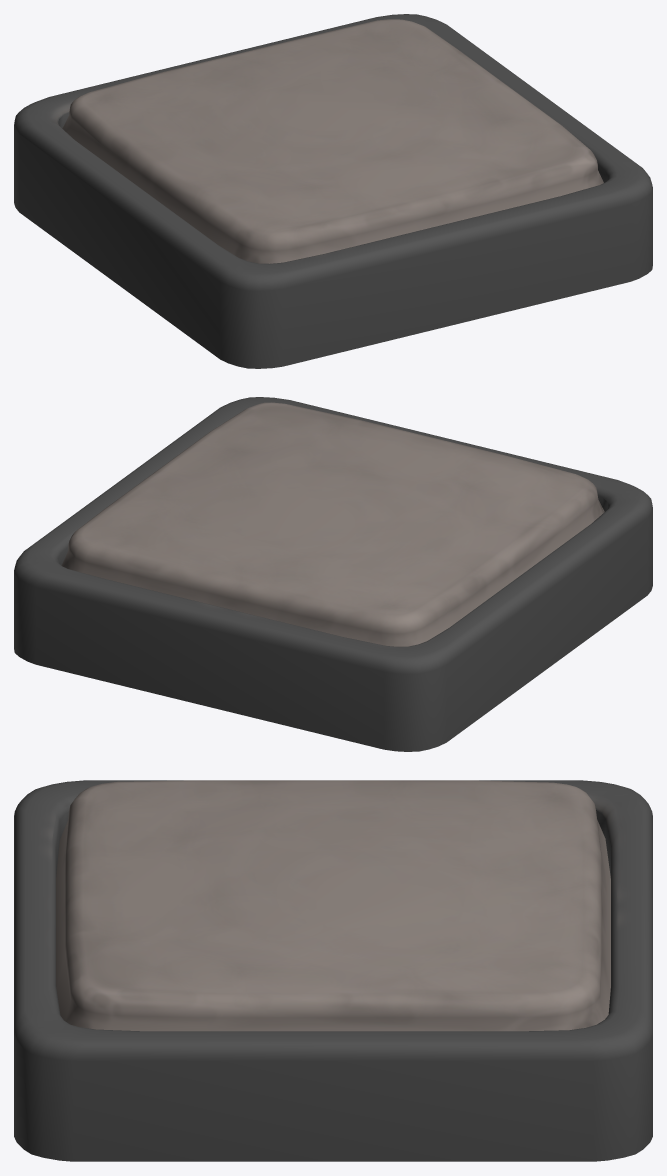
The model's file is Button_Model.glb.
3 renders of one model, top to bottom at view 1: azimuth 30°, elevation 25°; view 2: azimuth 150°, elevation 25°; view 3: azimuth 270°, elevation 25°, orthographic. The views are drawn at different scales.
Parts seen in each view (by area): view 1: Button; view 2: Button; view 3: Button.
Part boxes in pixels (box(x1,y1,x2,y2)): Button: box(14, 14, 652, 368); Button: box(14, 397, 652, 751); Button: box(14, 780, 652, 1161).
Size of the model in its own units: 4 by 0.9605 by 4.
1 material, 1 textured.
